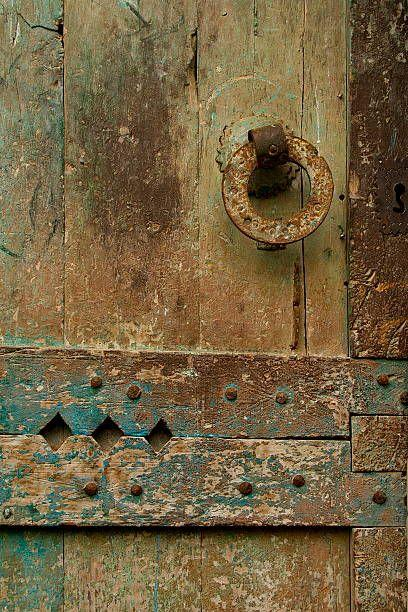metal: (216, 118, 340, 254)
